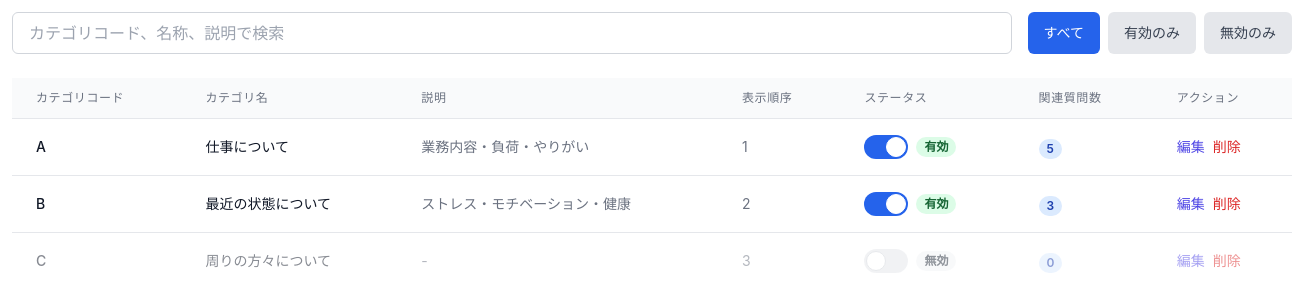
Test: CategoryTableWithFilter（統合テスト） › フィルタ機能 › 「有効のみ」フィルタで有効カテゴリのみ表示する
The width and height of the screenshot is (1304, 290).
Click the button "有効のみ" at (1152, 33), box [1108, 12, 1196, 54]
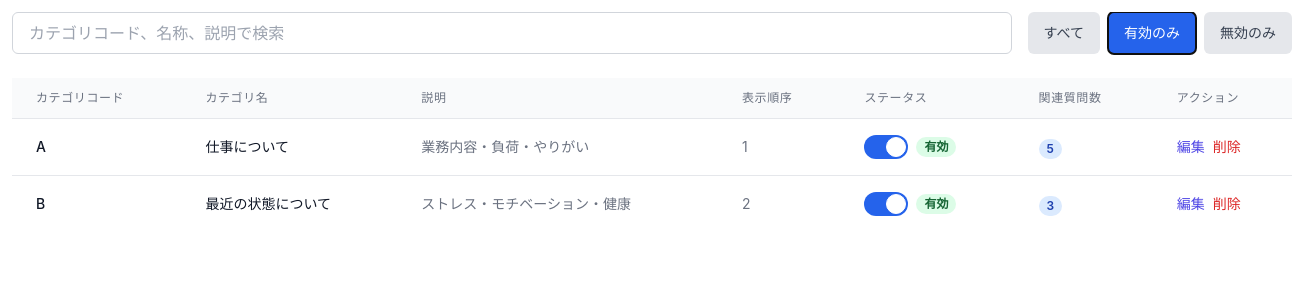
Expected: the text "仕事について" is shown, [181, 118, 397, 176]
Now the text "周りの方々について" is gone
